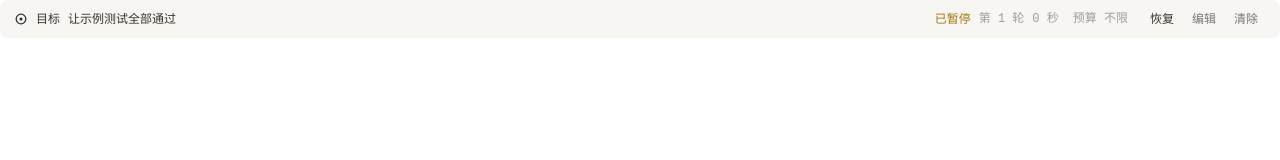
Test: 编辑目标（票 04） › Ctrl+Enter 保存：与点「保存」等效（Enter 留给换行）
Click the button with test id "goal-edit".
click(1204, 19)  # box [1184,9,1224,29]
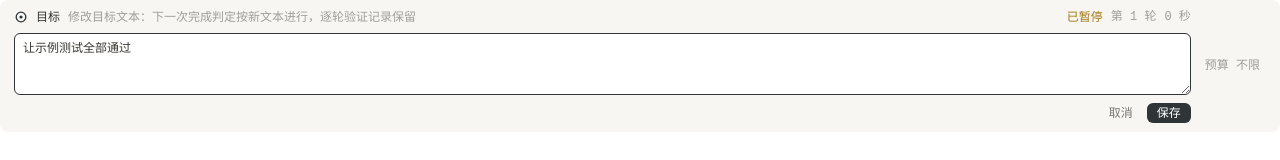
Replace the text in the text box with test id "goal-edit-input" with "修订后的目标" at (602, 64), box [14,33,1191,95]
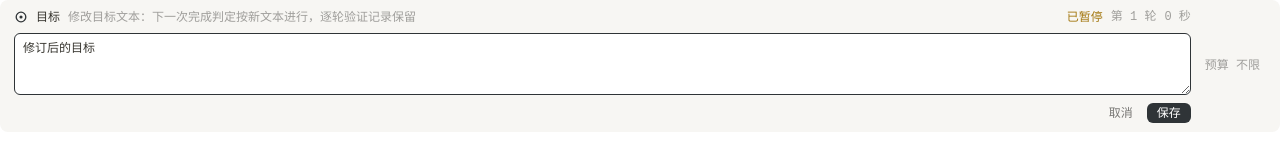
// 普通 Enter 只是换行，不触发保存
Press Enter in the text box with test id "goal-edit-input", box [14,33,1191,95]
Press Enter in the text box with test id "goal-edit-input", box [14,33,1191,95]
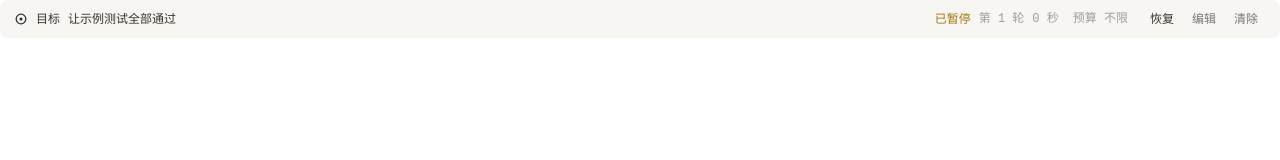
Result: the text box with test id "goal-edit-input" is gone
